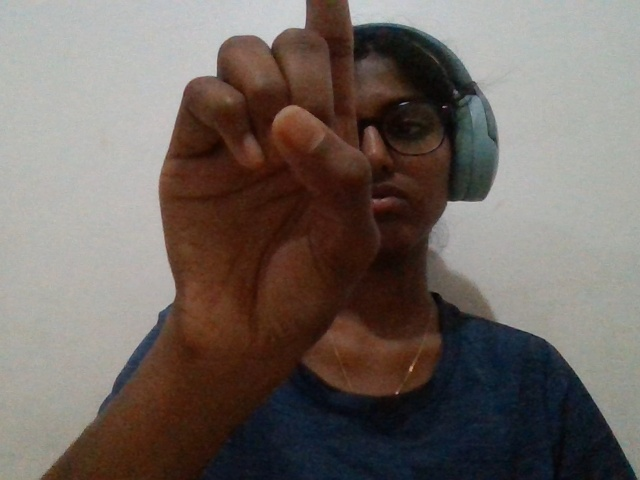D: (130, 4, 391, 445)
